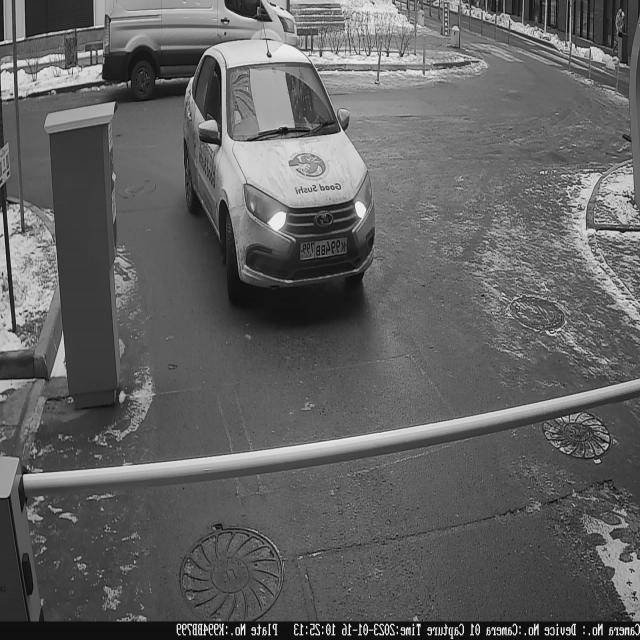car-plate-numbers: (300, 233, 351, 265)
